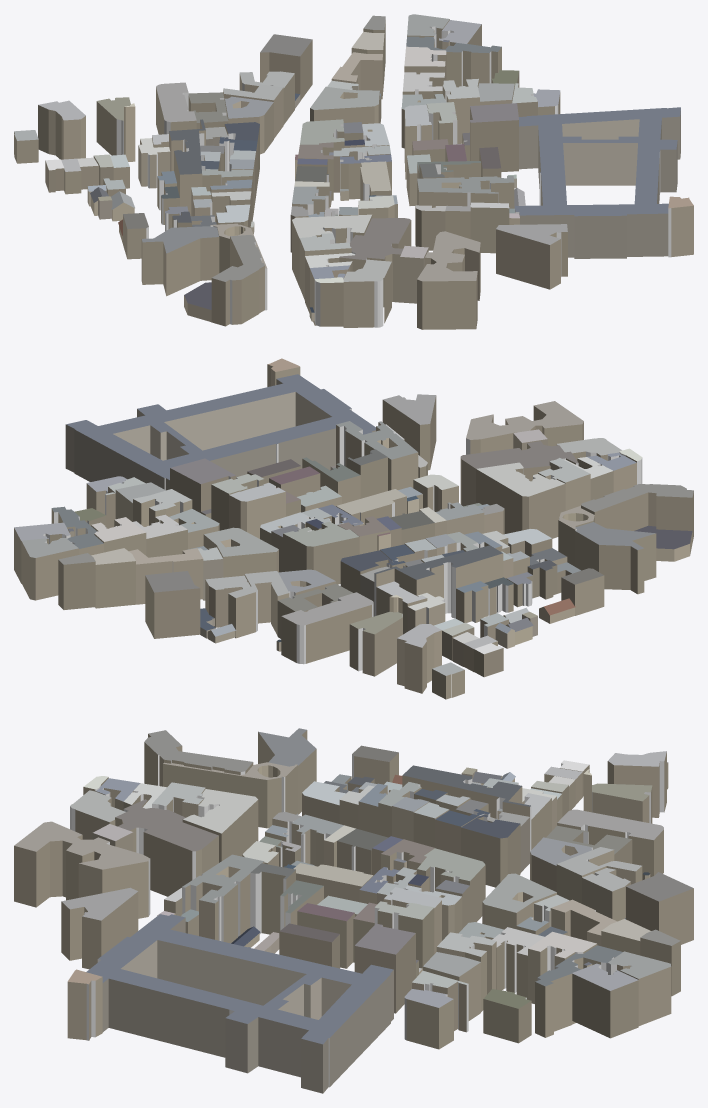
The picture shows the model from 3 angles, top to bottom: view 1: azimuth 30°, elevation 25°; view 2: azimuth 150°, elevation 25°; view 3: azimuth 270°, elevation 25°; orthographic projection. The views are drawn at different scales.
Parts seen in each view (by area): view 1: tuile; view 2: tuile; view 3: tuile.
Boxes of the visible parts, x1,y1,x2,y2 form: tuile: (14,14,693,329); tuile: (14,358,693,699); tuile: (14,728,693,1093).
Bounding box in the file's own units: 311 × 35.91 × 290.
